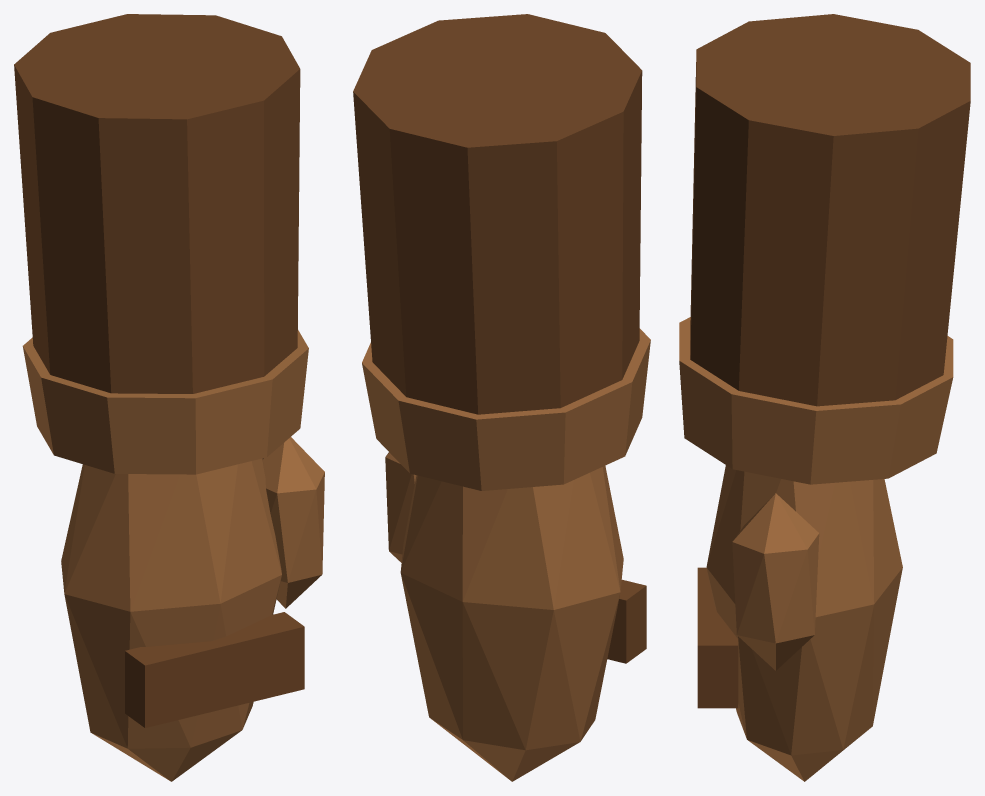
The model's file is gear_gloves_leather_arm_r.glb.
The picture shows the model from 3 angles, left to right: view 1: azimuth 30°, elevation 25°; view 2: azimuth 150°, elevation 25°; view 3: azimuth 270°, elevation 25°; orthographic projection.
Visible parts, largest first — view 1: gear_gloves_leather_arm_r; view 2: gear_gloves_leather_arm_r; view 3: gear_gloves_leather_arm_r.
Boxes of the visible parts, bbox=[...] form: gear_gloves_leather_arm_r: bbox=[14, 14, 324, 781]; gear_gloves_leather_arm_r: bbox=[353, 14, 650, 781]; gear_gloves_leather_arm_r: bbox=[679, 14, 970, 781].
Bounding box in the file's own units: 0.1039 × 0.2726 × 0.1009.
